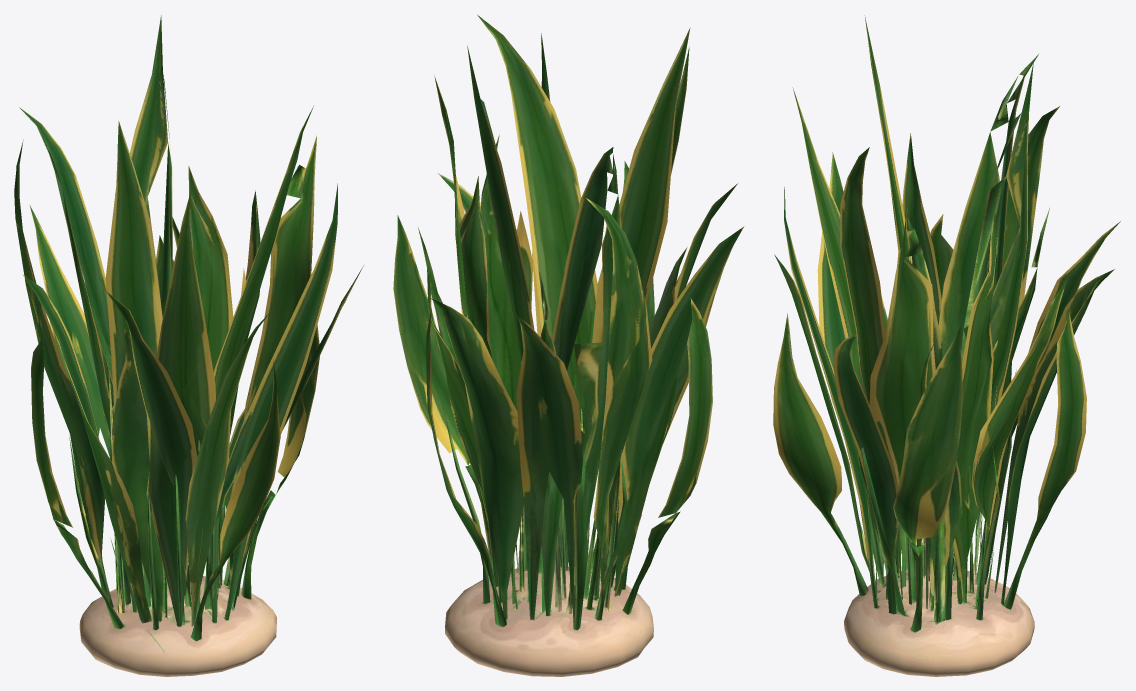
Rendered from ribbon-grass.glb.
3 views of the same model, side by side, from view 1: azimuth 30°, elevation 25°; view 2: azimuth 150°, elevation 25°; view 3: azimuth 270°, elevation 25° (orthographic). The views are drawn at different scales.
Bounding box in the file's own units: 0.5381 × 0.9517 × 0.5088.
Materials: 1 (1 with a texture image).
